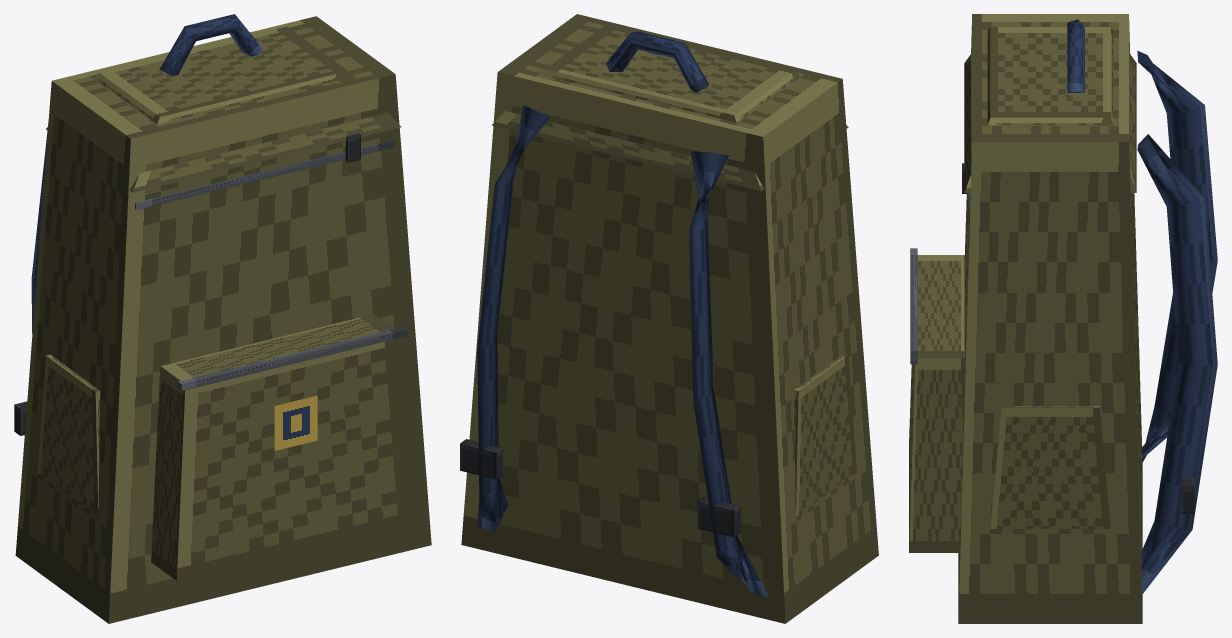
The model's file is INV_SmallBackpack.glb.
3 views of the same model, side by side, from view 1: azimuth 30°, elevation 25°; view 2: azimuth 150°, elevation 25°; view 3: azimuth 270°, elevation 25° (orthographic).
Visible parts, largest first — view 1: INV_SmallBackpack_Mesh; view 2: INV_SmallBackpack_Mesh; view 3: INV_SmallBackpack_Mesh.
Part boxes in pixels (<box>): INV_SmallBackpack_Mesh: <box>14,14,431,623</box>; INV_SmallBackpack_Mesh: <box>460,14,878,623</box>; INV_SmallBackpack_Mesh: <box>909,14,1217,623</box>.
Size of what is drawn, in the model's own units: 0.3 by 0.4618 by 0.2526.
1 material, 1 textured.
